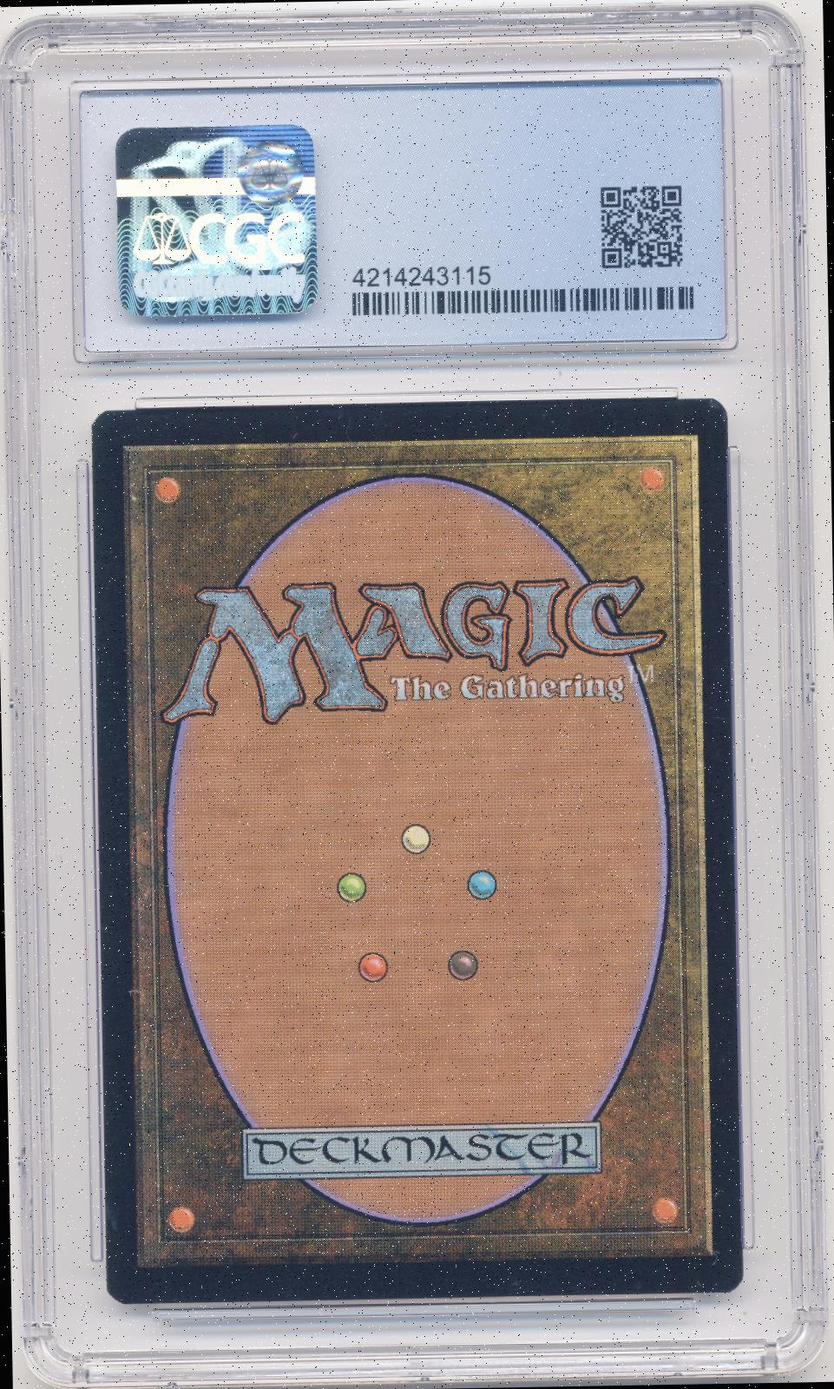card-2UtV: (90, 396, 744, 1305)
